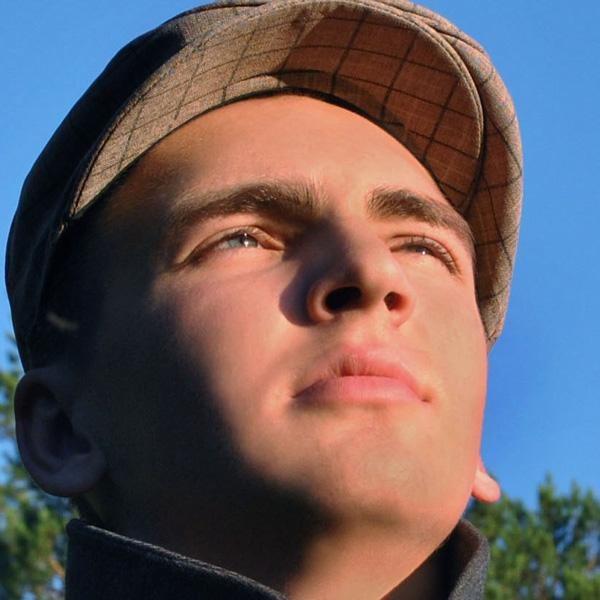Eyes: (175, 211, 304, 274), (377, 218, 462, 284)
